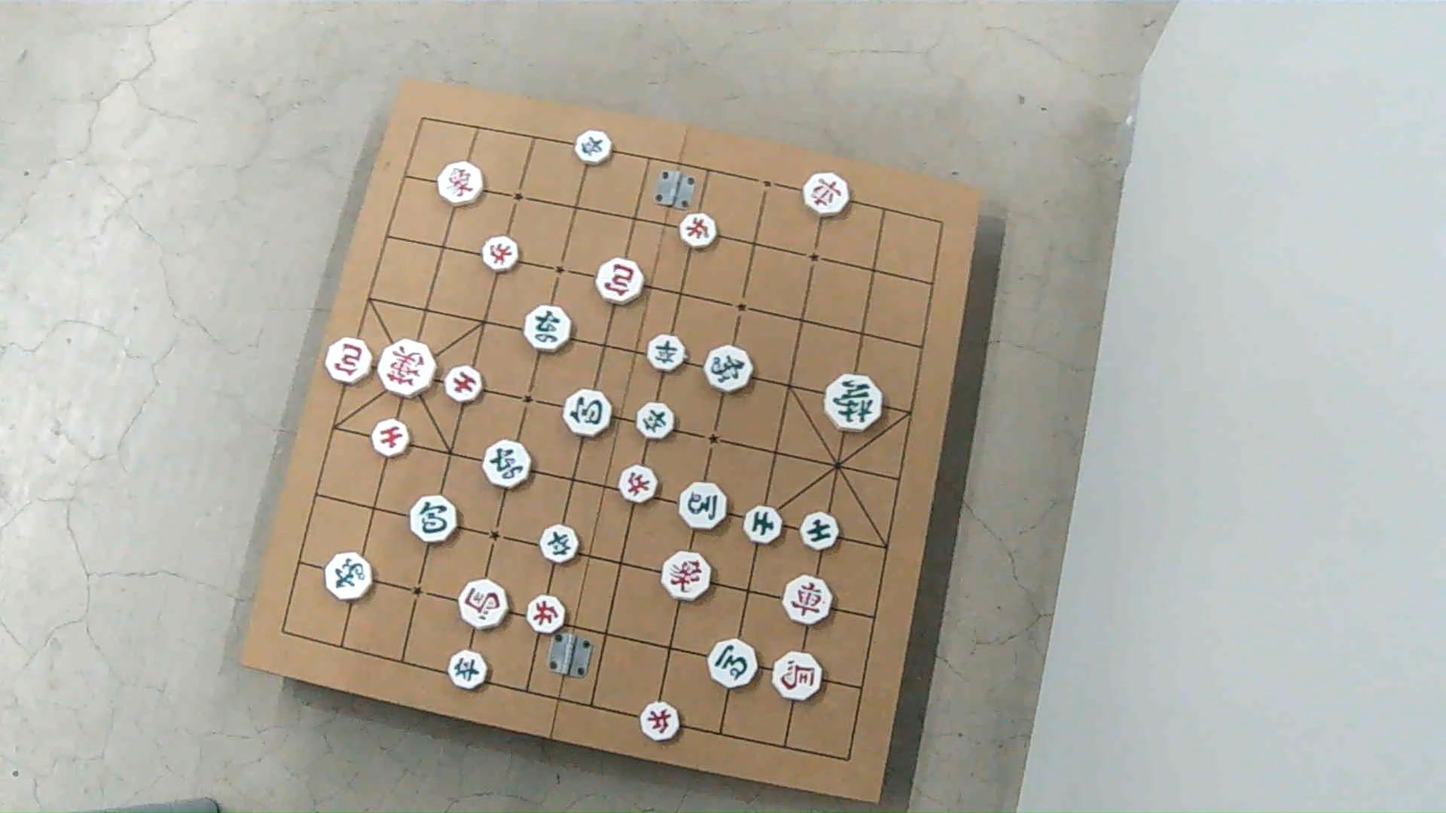cha_green: (481, 440, 529, 489), (525, 306, 572, 352)
cha_red: (783, 576, 831, 626), (804, 172, 850, 217)
jol_green: (448, 651, 488, 690), (540, 525, 579, 564), (646, 336, 685, 373), (637, 403, 676, 440), (578, 129, 615, 164)
jol_red: (640, 701, 679, 740), (621, 464, 660, 502), (528, 595, 565, 634), (480, 237, 517, 273), (679, 213, 716, 248)
ma_green: (707, 641, 755, 690), (681, 483, 728, 530)
ma_red: (459, 580, 508, 629), (773, 651, 822, 700)
po_green: (563, 388, 610, 437), (407, 497, 456, 544)
po_red: (324, 338, 371, 384), (599, 258, 645, 304)
sa_green: (747, 507, 786, 545), (800, 513, 837, 552)
sa_red: (444, 364, 484, 400), (374, 419, 411, 456)
sang_green: (325, 553, 373, 602), (704, 346, 751, 393)
sang_red: (664, 553, 713, 603), (441, 162, 485, 205)
wang_green: (826, 374, 883, 432)
wang_red: (380, 339, 438, 397)
